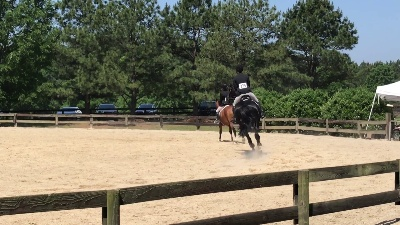jetta: (231, 92, 266, 154)
